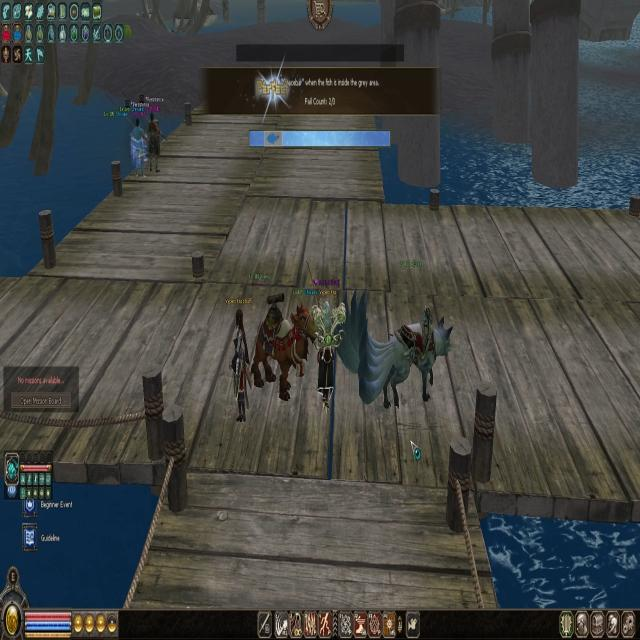box: (264, 132, 282, 146)
fishes: (266, 130, 279, 147)
